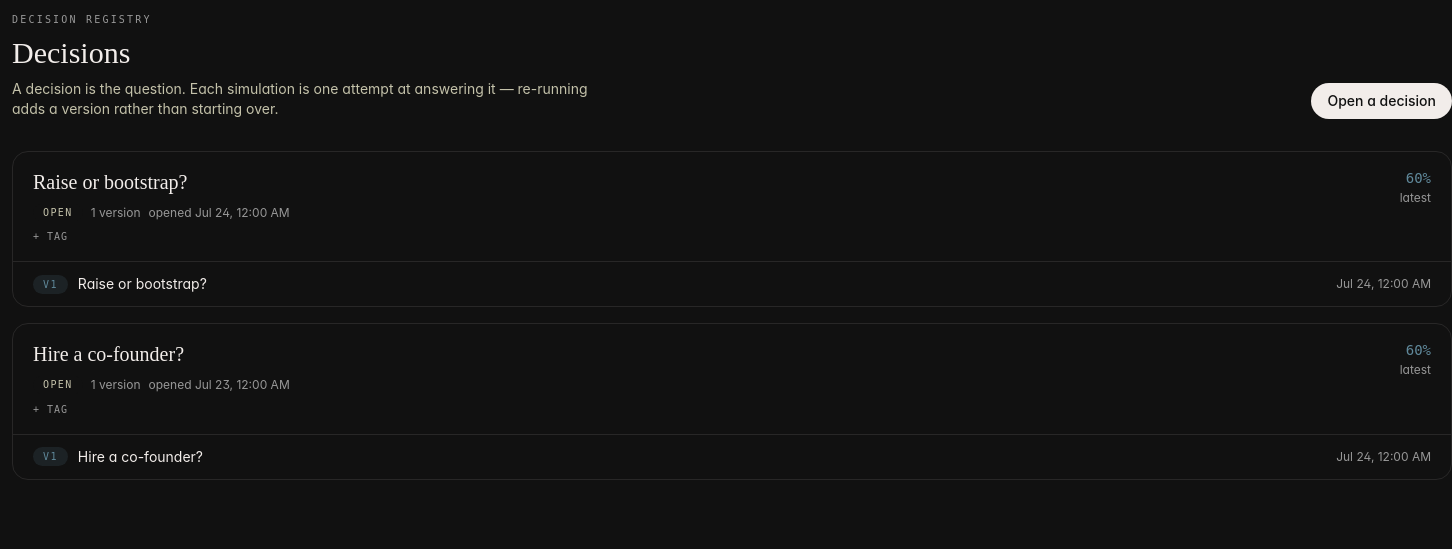
Test: DecisionsPage tagging › clears the filter when the active tag chip is clicked again
Type "Funding" into the 1st field with placeholder "+ tag" at (65, 237), box [33,229,97,245]
Then press Enter
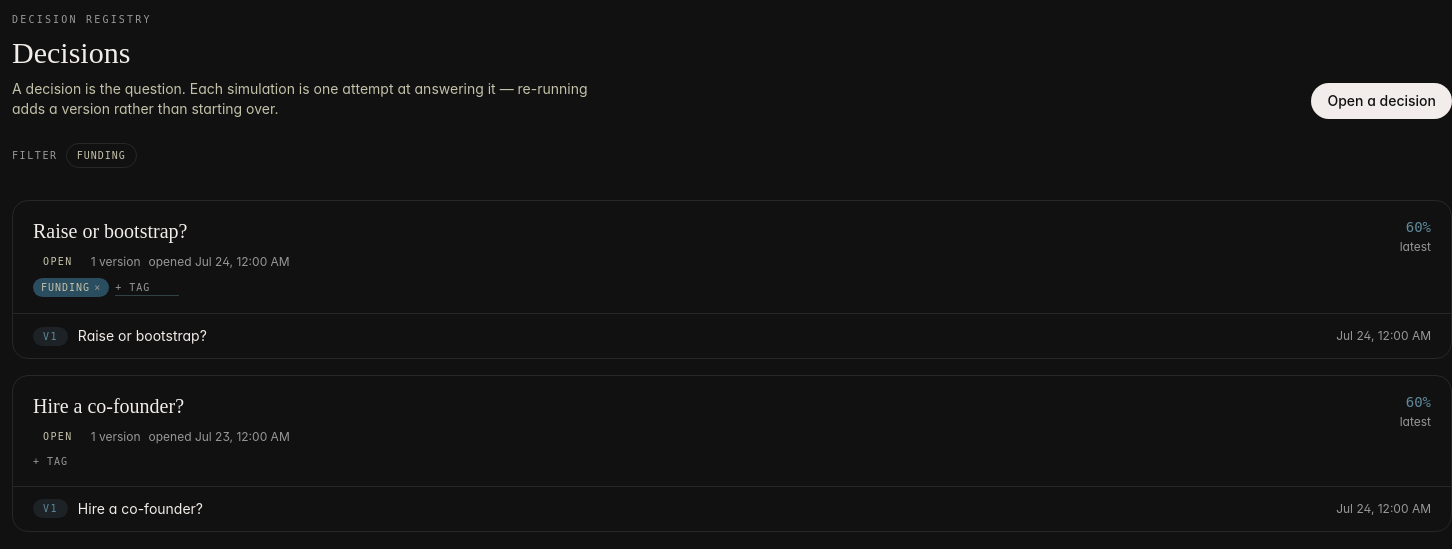
Click the button "Funding" at (101, 156), box [66,143,137,168]
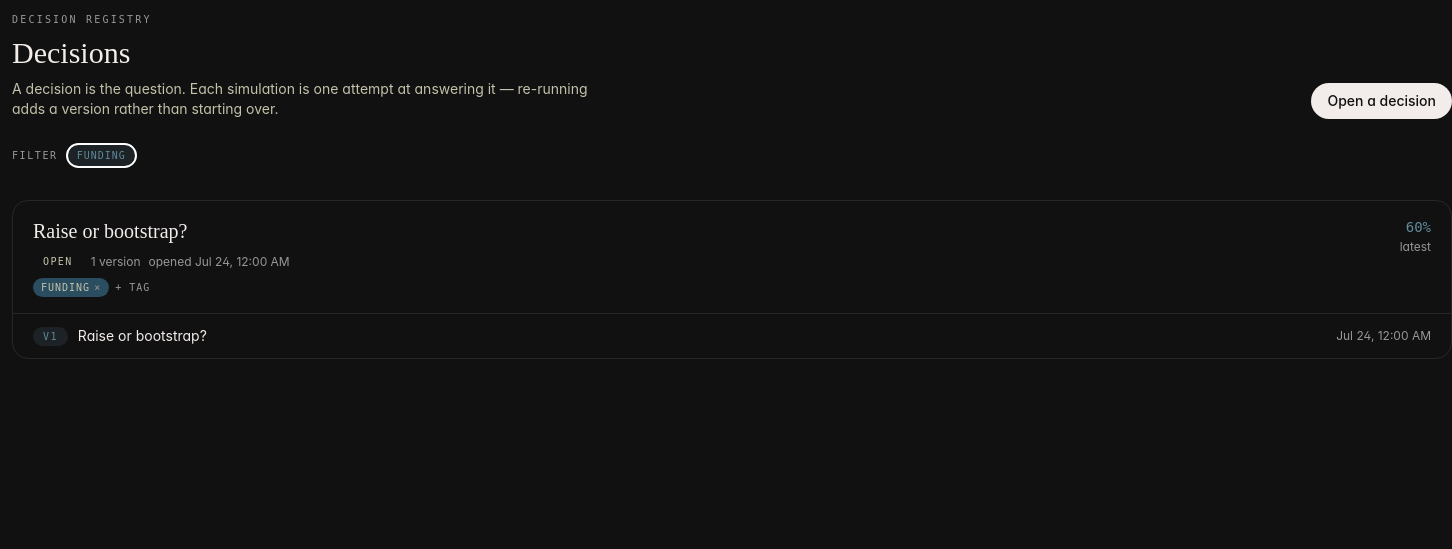
Click the button "Funding" at (101, 156), box [66,143,137,168]
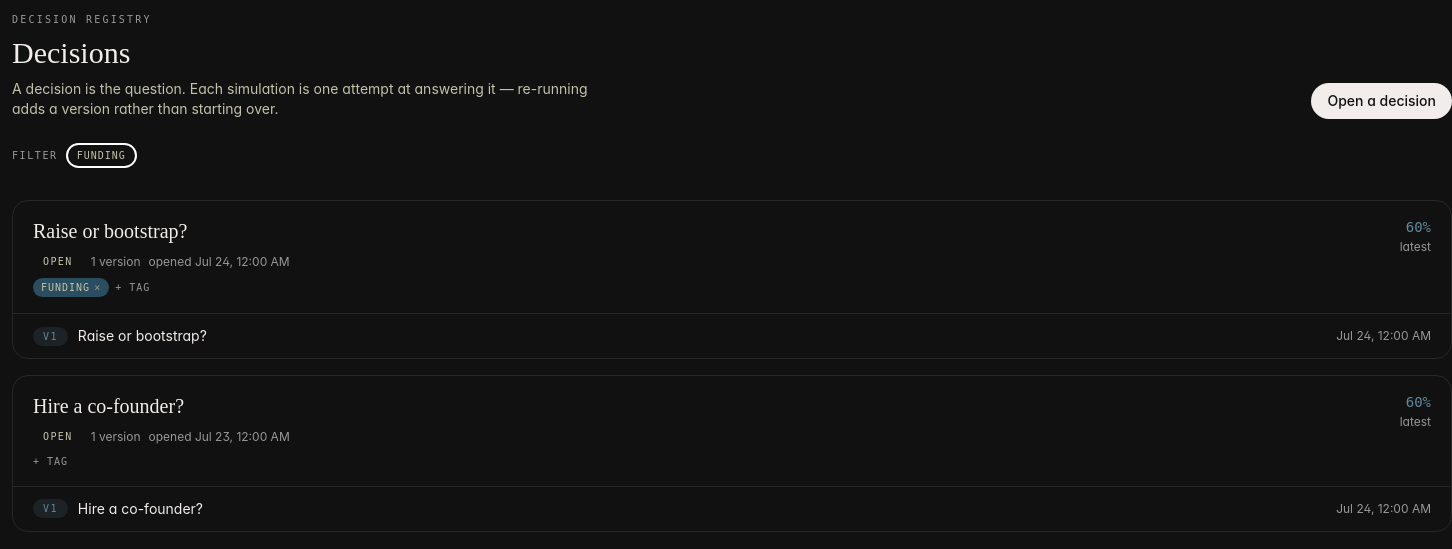
Check: the number of list items with test id "decision-row" is 2, box [12,200,1451,359]; [12,375,1451,532]
